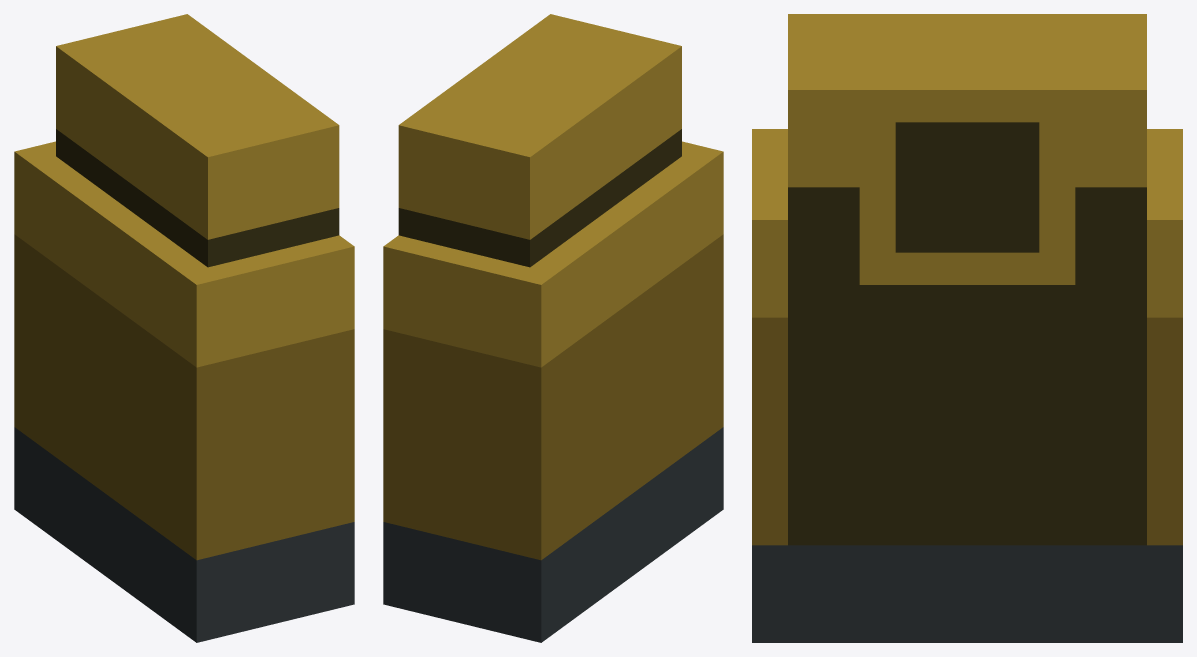
The model's file is boss_loader_leg.obj.
3 renders of one model, left to right at view 1: azimuth 30°, elevation 25°; view 2: azimuth 150°, elevation 25°; view 3: azimuth 270°, elevation 25°, orthographic. The views are drawn at different scales.
Size of the model in its own units: 0.6 by 1.7 by 1.2.
1 material, 1 textured.
